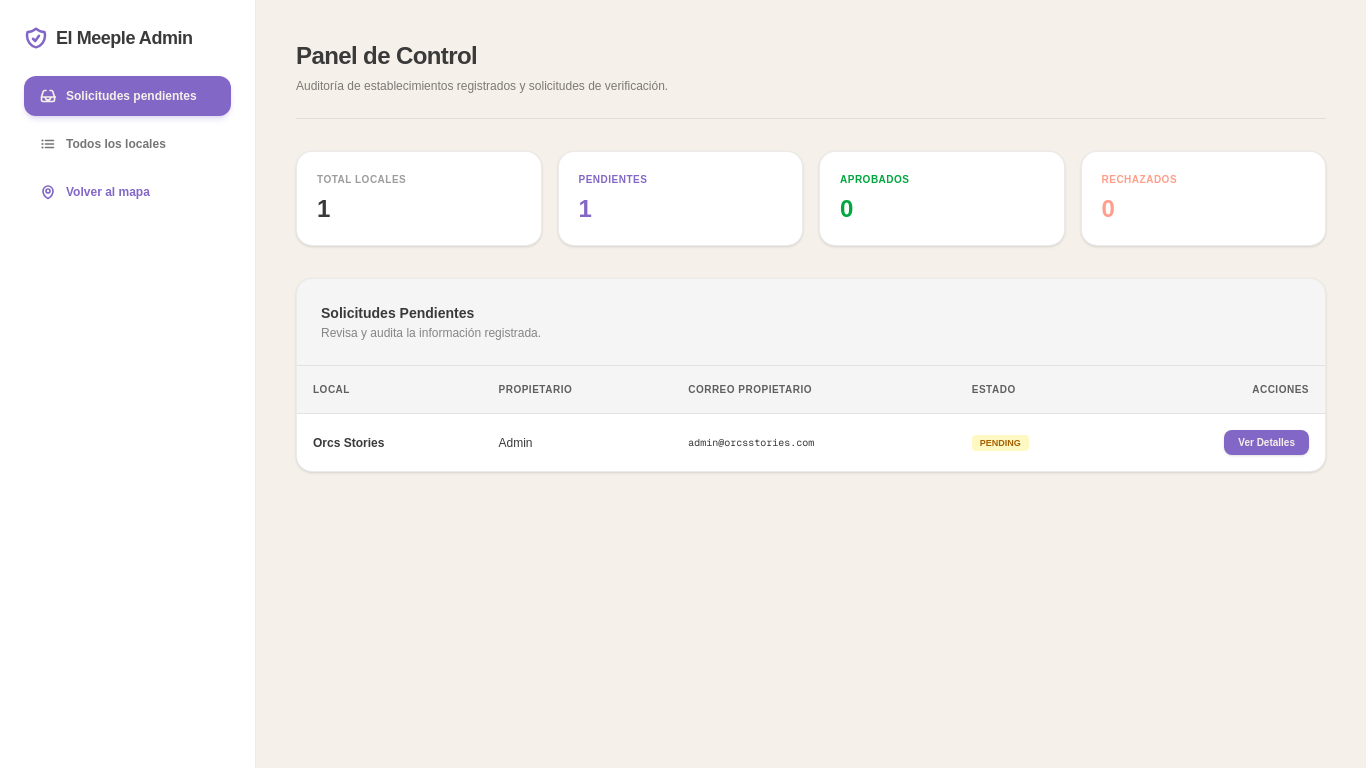
Test: Milestone 2: Auth, Profiles, TCG tags, Dashboards, Bulletin Board › Platform Admin Dashboard › renders contact info and pre-formatted email/WhatsApp links
This screenshot has width=1366, height=768.
# Open details modal
What coordinates should you click on to do the following:
click the button "Ver Detalles"
I would click on:
 (1267, 443)
Its box is [1224,430,1309,455].
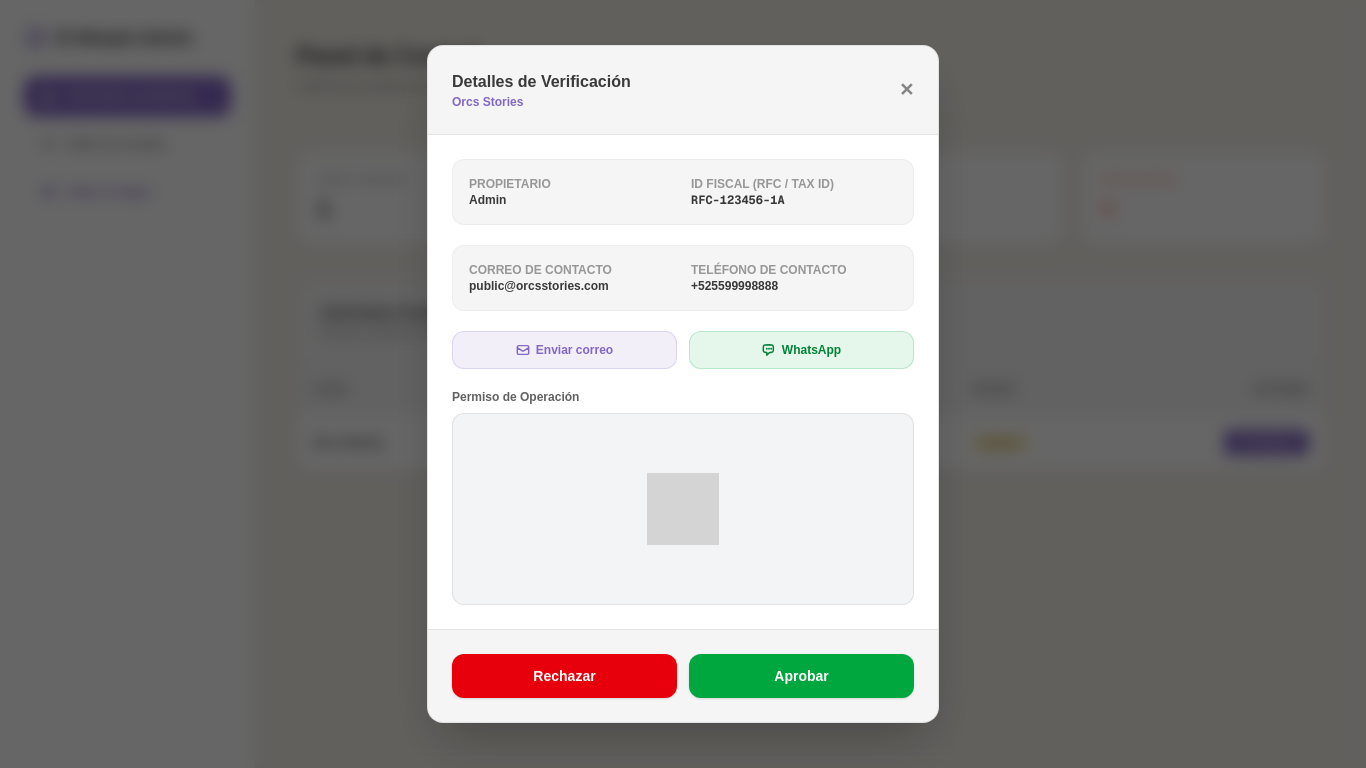
Expected: the text "public@orcsstories.com" is shown, [469,279,609,293]
Expected: the text "+525599998888" is shown, [691,279,778,293]
